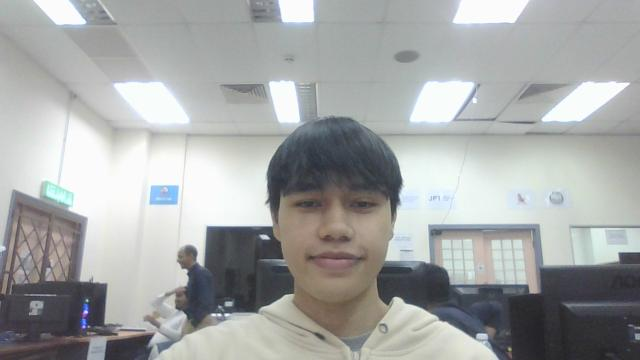senang: (259, 116, 408, 301)
